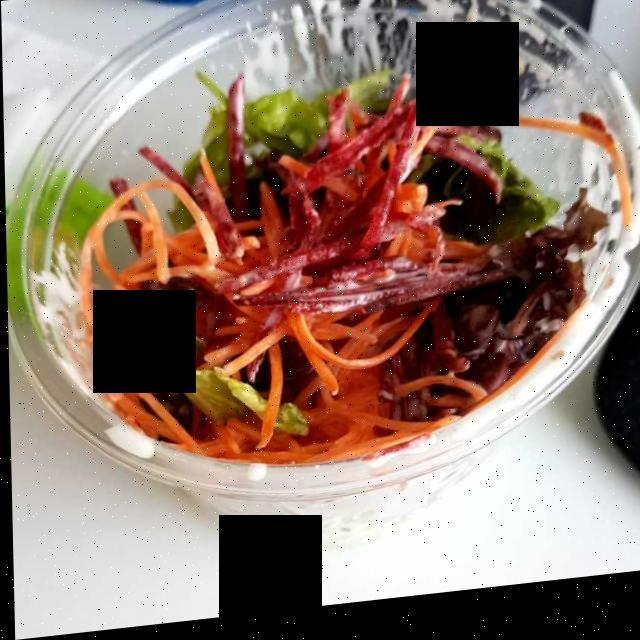salad: (76, 83, 598, 457)
